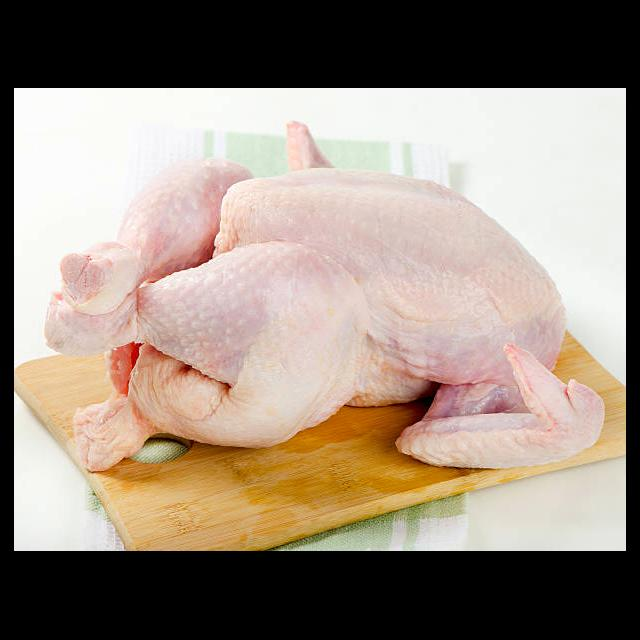chicken: (44, 119, 607, 474)
